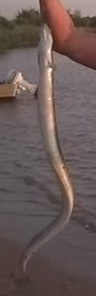Anguilla anguilla: (20, 20, 76, 276)
